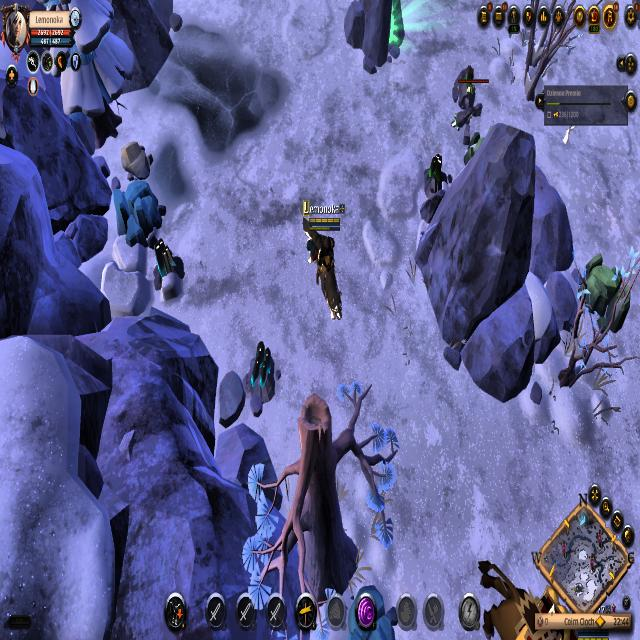ore tier 3: (419, 149, 449, 204)
ore tier 4: (244, 341, 278, 406), (152, 238, 187, 300)
rock tier 1: (120, 140, 154, 182)
rock tier 3: (577, 250, 622, 336)
rock tier 4: (112, 180, 166, 249)
